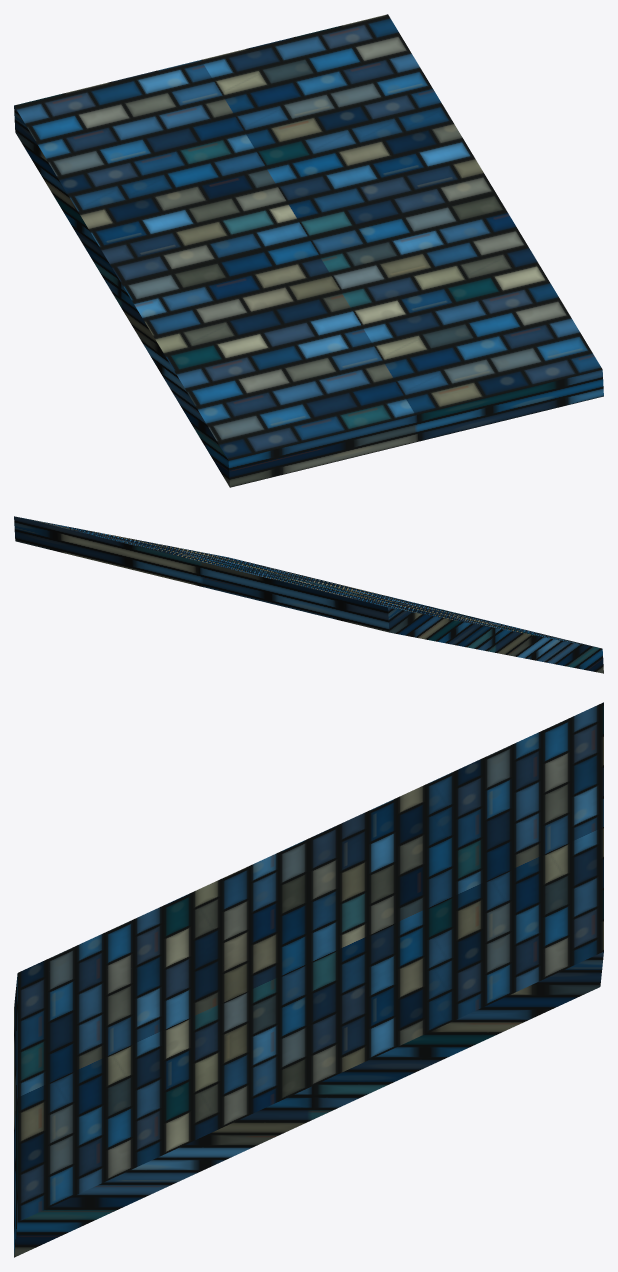
Rendered from byzantine blue roof triangle.glb.
3 views of the same model, one above another, from view 1: azimuth 30°, elevation 25°; view 2: azimuth 150°, elevation 25°; view 3: azimuth 270°, elevation 25° (orthographic). The views are drawn at different scales.
Parts seen in each view (by area): view 1: Preview_Byzantine_Blue_triangle; view 2: Preview_Byzantine_Blue_triangle; view 3: Preview_Byzantine_Blue_triangle.
Part boxes in pixels (x1,y1,x2,y2): Preview_Byzantine_Blue_triangle: (14, 14, 603, 487); Preview_Byzantine_Blue_triangle: (14, 516, 603, 673); Preview_Byzantine_Blue_triangle: (14, 702, 603, 1257).
Size of the model in its own units: 1 by 0.5726 by 1.
1 material, 1 textured.
